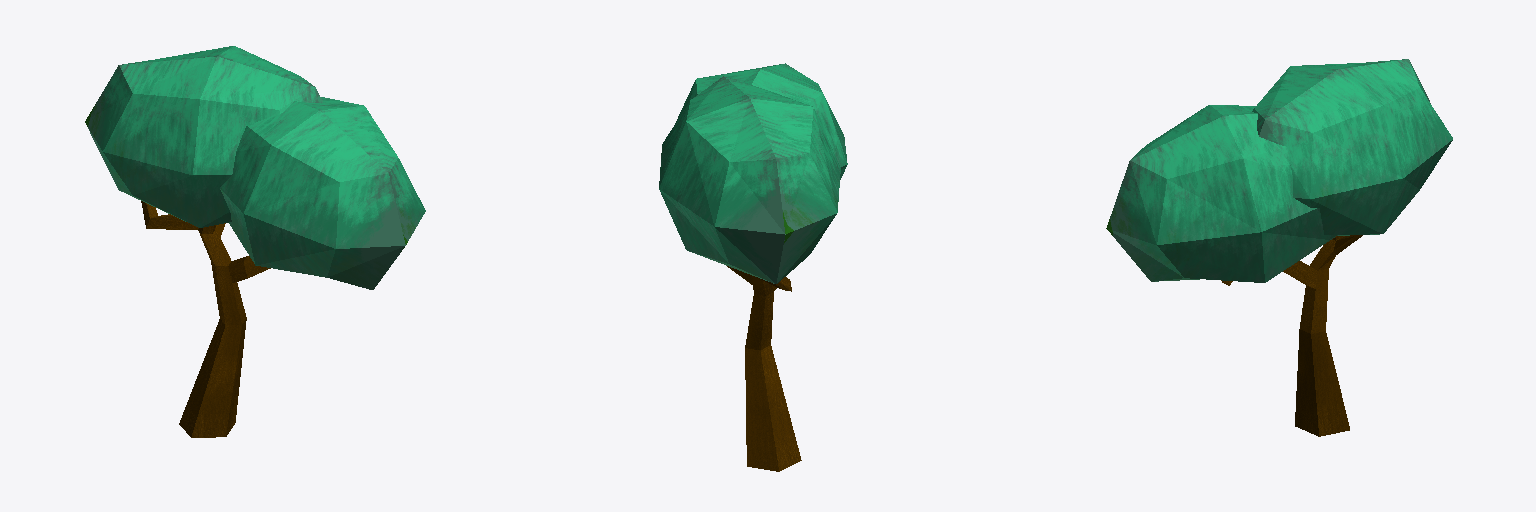
The picture shows the model from 3 angles: view 1: azimuth 30°, elevation 25°; view 2: azimuth 150°, elevation 25°; view 3: azimuth 270°, elevation 25°; orthographic projection.
Parts seen in each view (by area): view 1: pCube1, Bush:pCube1, Dead_Tree_1:pasted__pCylinder1group; view 2: Bush:pCube1, Dead_Tree_1:pasted__pCylinder1group, pCube1; view 3: pCube1, Bush:pCube1, Dead_Tree_1:pasted__pCylinder1group.
Boxes of the visible parts, x1=… form: pCube1: x1=220, y1=97, x2=425, y2=289; Bush:pCube1: x1=85, y1=46, x2=322, y2=227; Dead_Tree_1:pasted__pCylinder1group: x1=141, y1=201, x2=270, y2=437; Bush:pCube1: x1=659, y1=76, x2=840, y2=283; Dead_Tree_1:pasted__pCylinder1group: x1=727, y1=266, x2=801, y2=471; pCube1: x1=676, y1=63, x2=847, y2=179; pCube1: x1=1106, y1=105, x2=1337, y2=282; Bush:pCube1: x1=1252, y1=59, x2=1452, y2=235; Dead_Tree_1:pasted__pCylinder1group: x1=1221, y1=235, x2=1362, y2=436.
Bounding box in the file's own units: 13.84 × 21.51 × 18.67.
Materials: 3 (2 with a texture image).